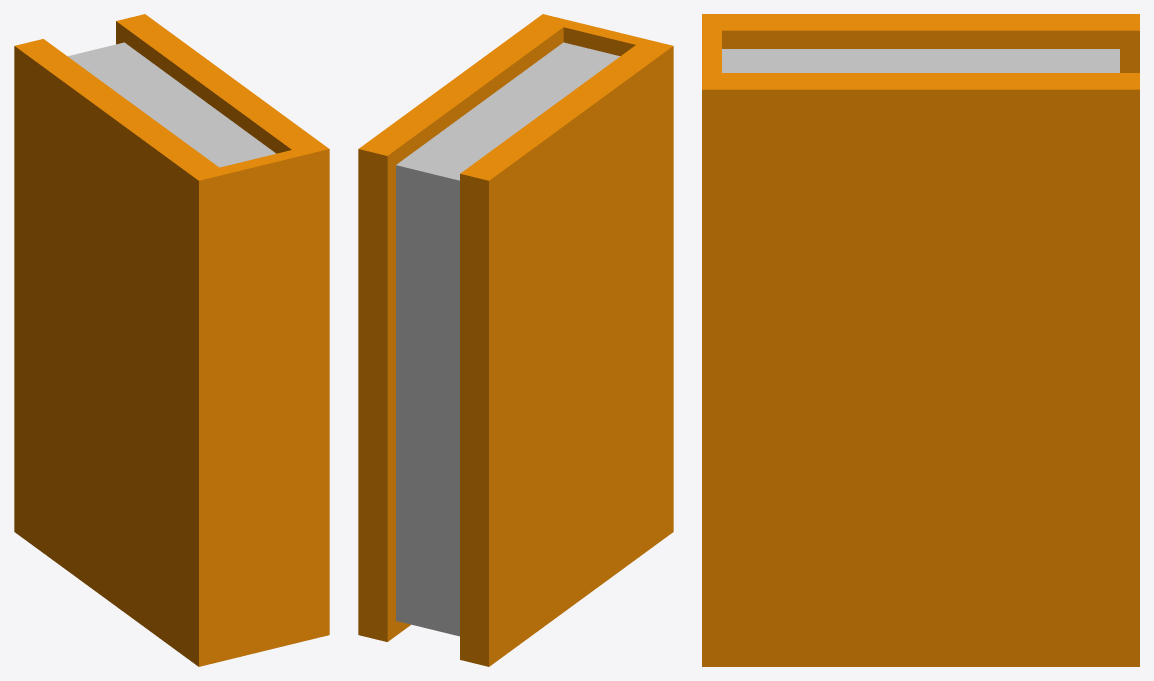
The model's file is OrangeBook.fbx.
3 views of the same model, side by side, from view 1: azimuth 30°, elevation 25°; view 2: azimuth 150°, elevation 25°; view 3: azimuth 270°, elevation 25° (orthographic). The views are drawn at different scales.
Visible parts, largest first — view 1: OrangeBook; view 2: OrangeBook; view 3: OrangeBook.
Boxes of the visible parts, x1,y1,x2,y2 form: OrangeBook: (14,14,329,666); OrangeBook: (358,14,673,666); OrangeBook: (702,14,1139,666).
Size of the model in its own units: 9 by 32 by 22.
Materials: 1 (1 with a texture image).
